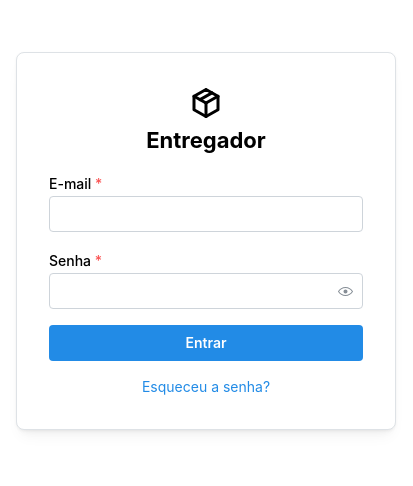
Test: App › shows an error when the email or password is wrong
Type "porteiro@entregador.local" into the field labelled "E-mail *" at (206,214), box [49, 196, 363, 232]
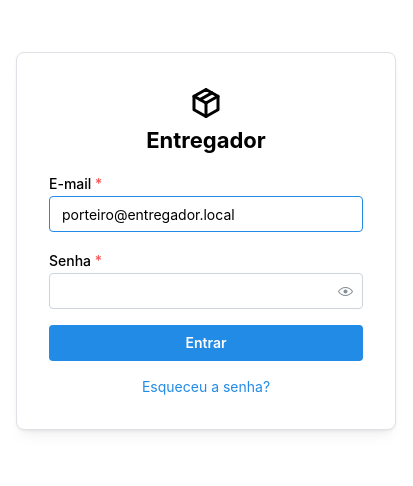
Type "senha-errada" into the password field labelled "Senha *" at (206,291), box [50, 274, 362, 308]
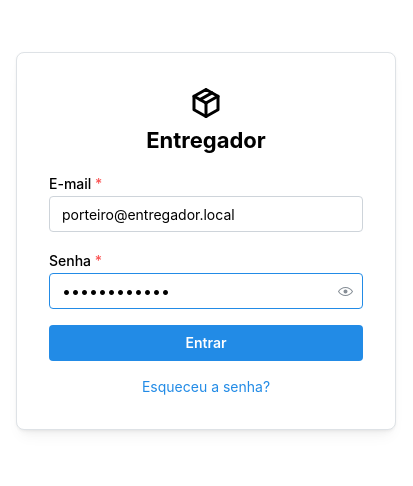
Click the button "Entrar" at (206,343), box [49, 325, 363, 361]
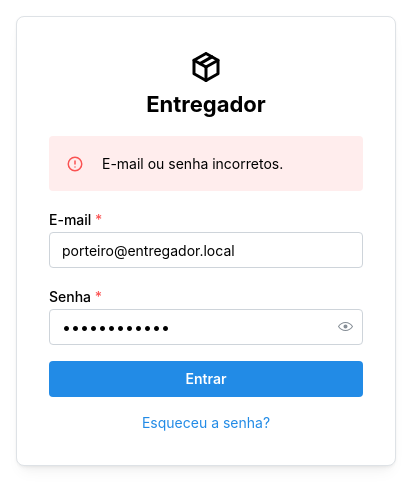
Check: the button "Entrar" is shown, box [49, 361, 363, 397]
Check: the text "E-mail ou senha incorretos." is shown, box [102, 155, 283, 172]
